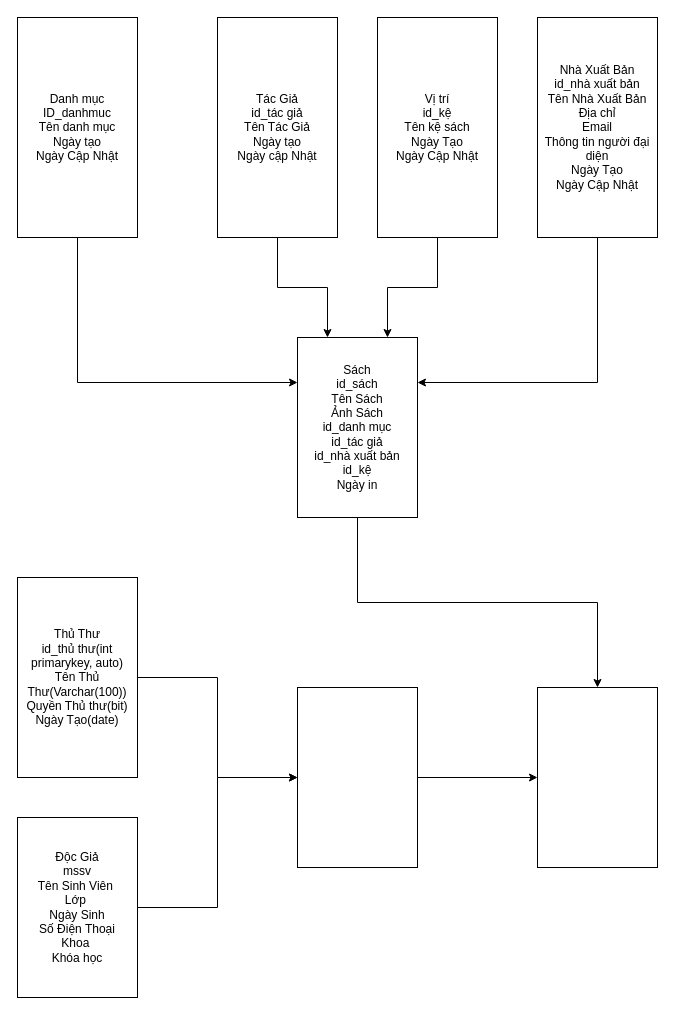
Image size: 675x1015. Some labels were removed from this diagram. The centre of each missing label's shape, as x and y in pixels:
"Mượn Trả id_mượn trả MSSV id_thủ thư Ngày Mượn" belongs at [357,777].
"Thông Tin Mượn Trả id_mượn trả id sách Ghi Chú Đã trả Ngày trả" belongs at [597,777].
